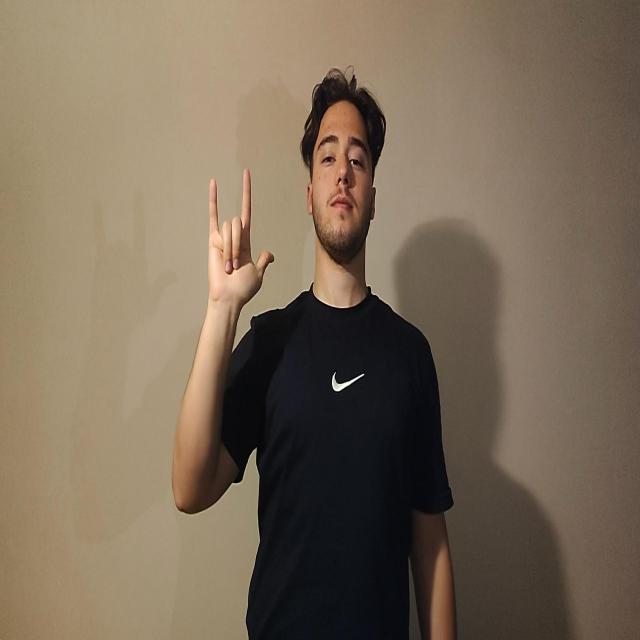iloveyou: (207, 167, 274, 310)
